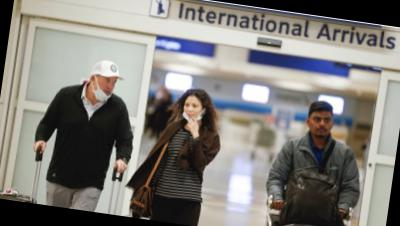mask_weared_incorrect: (92, 74, 118, 99), (182, 100, 205, 122)
without_mask: (308, 112, 334, 138)
